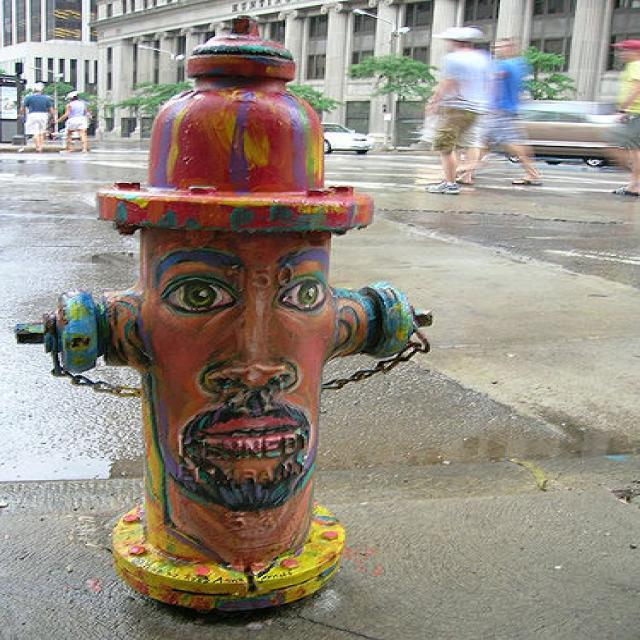fire_hydrant: (41, 14, 433, 616)
